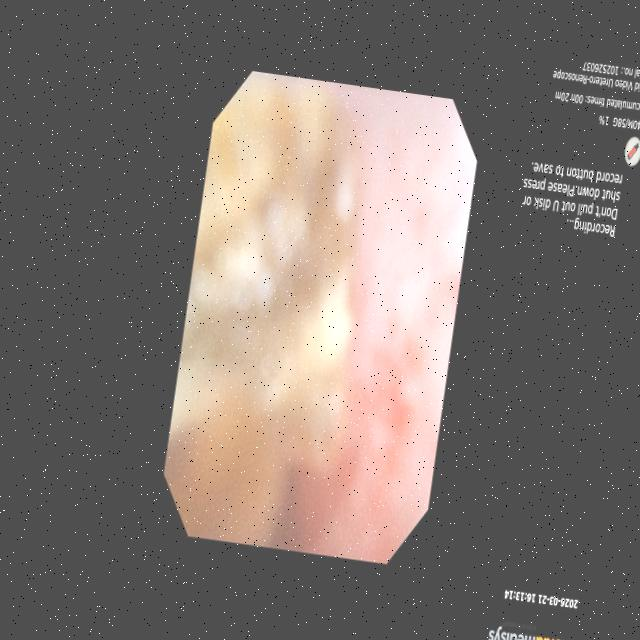stone-new: (165, 81, 358, 546)
